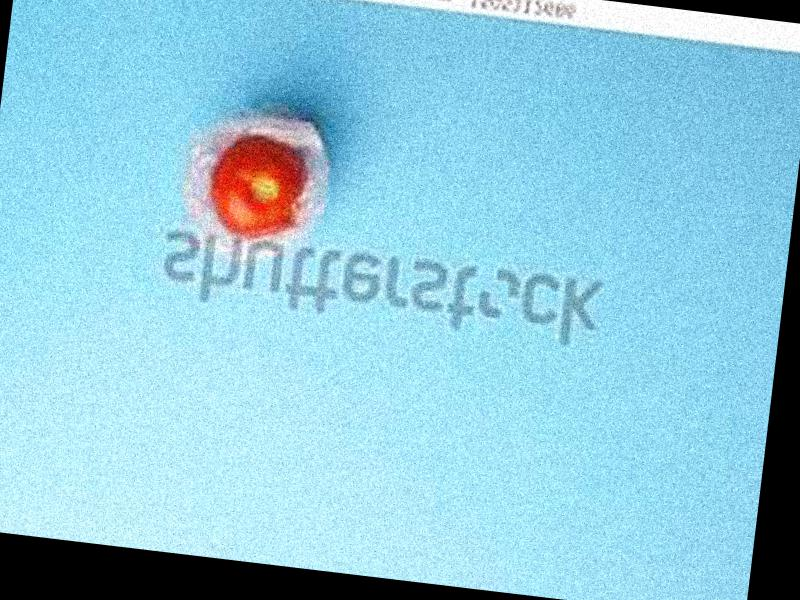Tomato: (208, 133, 311, 243)
